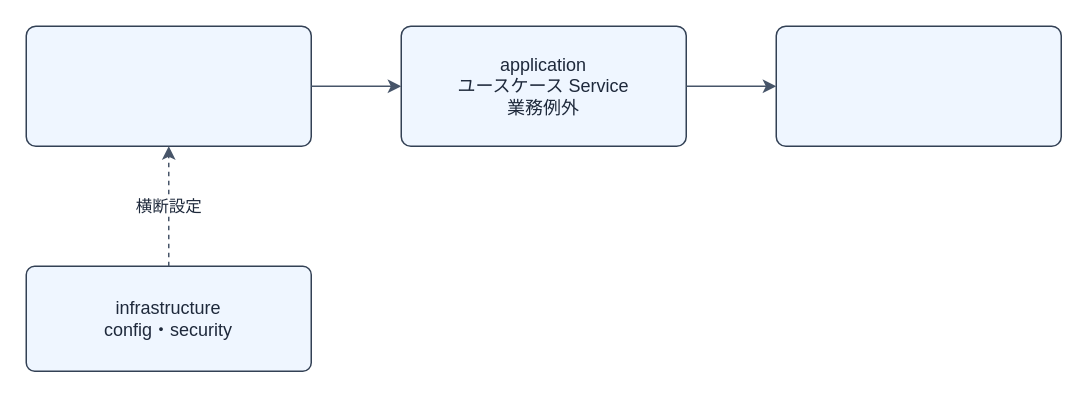
Some shapes in this 1088 by 398 pixel diagram are drawn without their labels. Here are the shapes that lost their labels. From the top down, the centre of each, then its label:
At (x=168, y=85): "presentation Controller・DTO 例外→HTTPの変換".
At (x=918, y=85): "domain Entity・Enum Repository interface".
